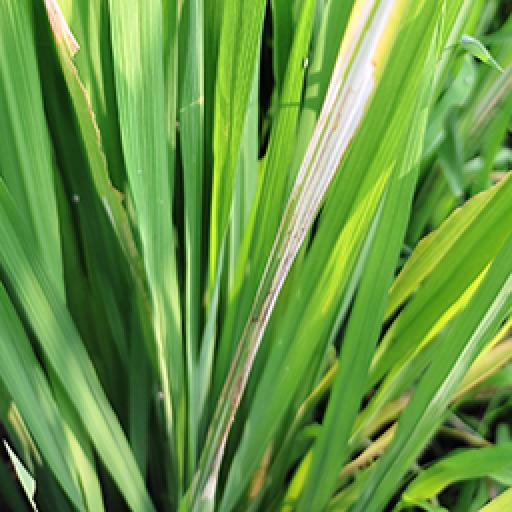Bacterial Leaf Blight: (158, 0, 418, 512), (36, 0, 130, 196)
